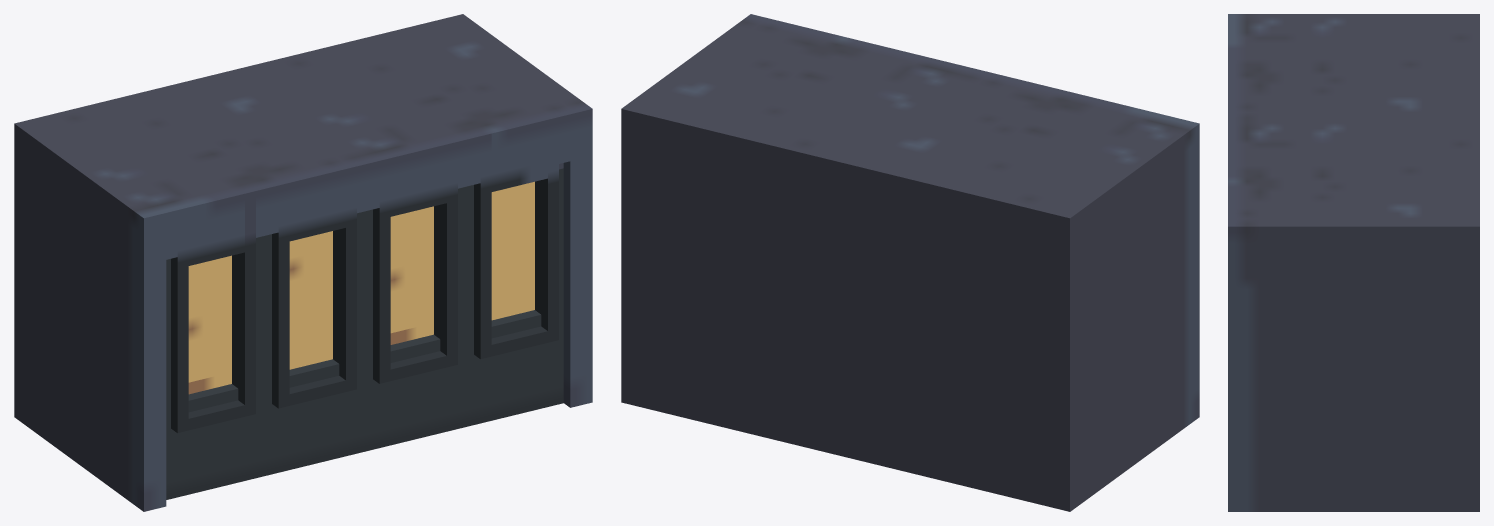
The model's file is BuildingBlock-13.fbx.
The picture shows the model from 3 angles, left to right: view 1: azimuth 30°, elevation 25°; view 2: azimuth 150°, elevation 25°; view 3: azimuth 270°, elevation 25°; orthographic projection. The views are drawn at different scales.
Visible parts, largest first — view 1: BuildingBlock_13; view 2: BuildingBlock_13; view 3: BuildingBlock_13.
Boxes of the visible parts, bbox=[...] form: BuildingBlock_13: bbox=[14, 14, 592, 511]; BuildingBlock_13: bbox=[621, 14, 1199, 511]; BuildingBlock_13: bbox=[1228, 14, 1479, 511].
Size of the model in its own units: 400 by 250 by 200.
Materials: 2 (2 with a texture image).
